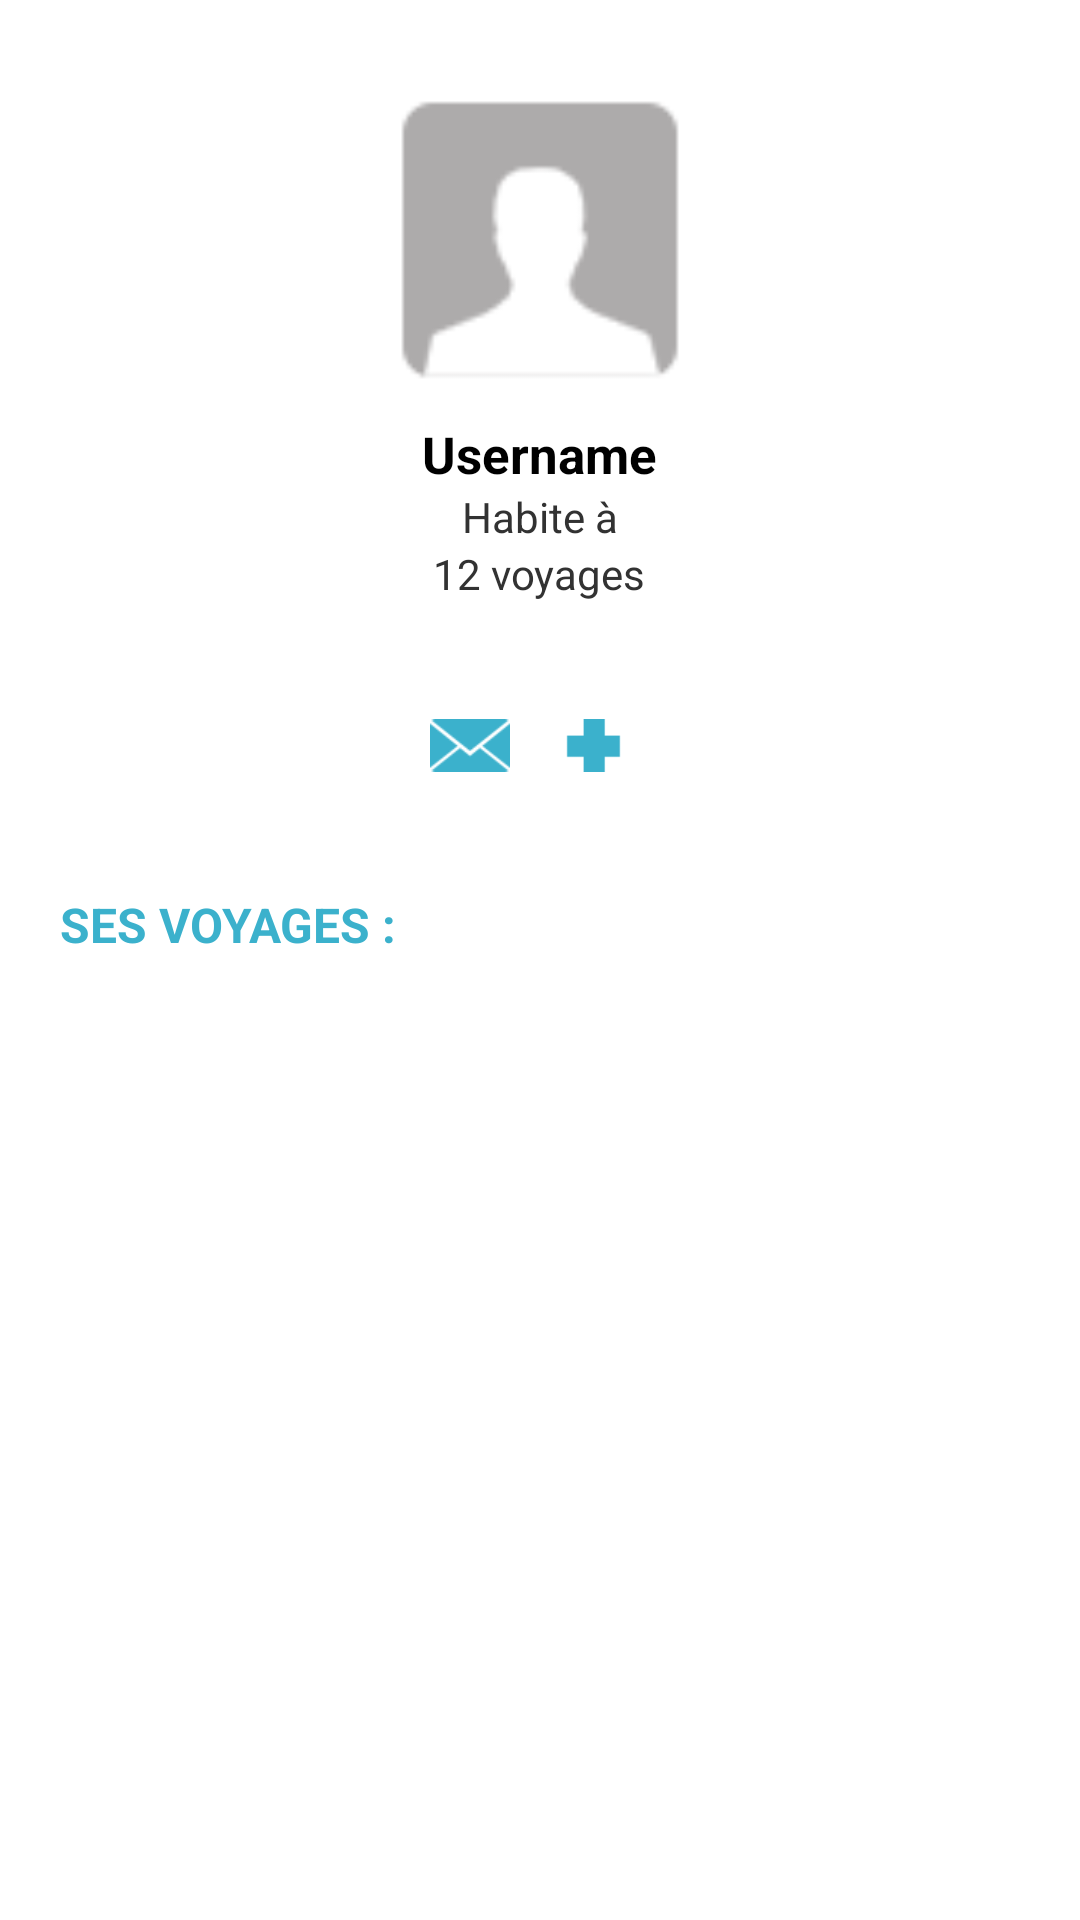

Icons on this 1080px x 1920px Android screen, each with its box as {"x1": x1, "y1": y1, "x2": x2, "y2": y2}:
send mail: {"x1": 430, "y1": 719, "x2": 510, "y2": 772}
